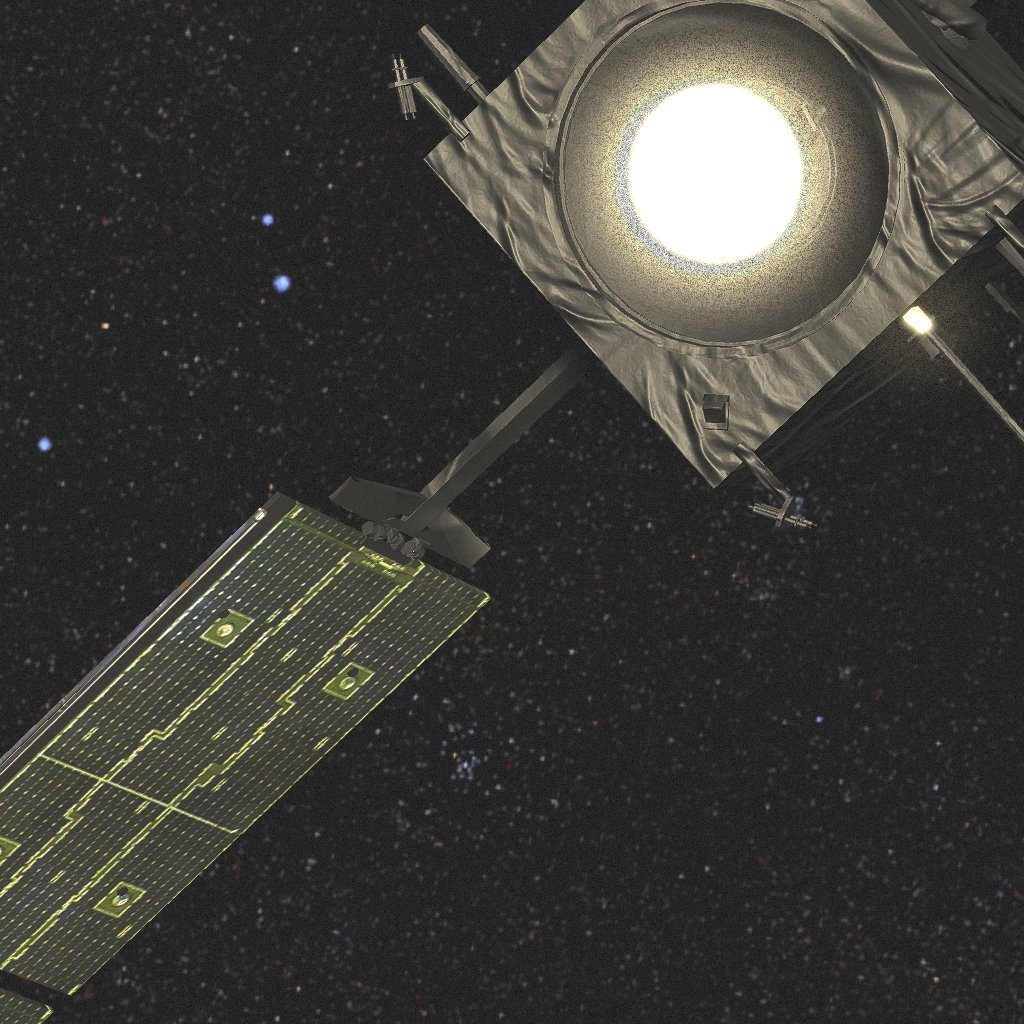smart_1: (0, 0, 1024, 1024)
